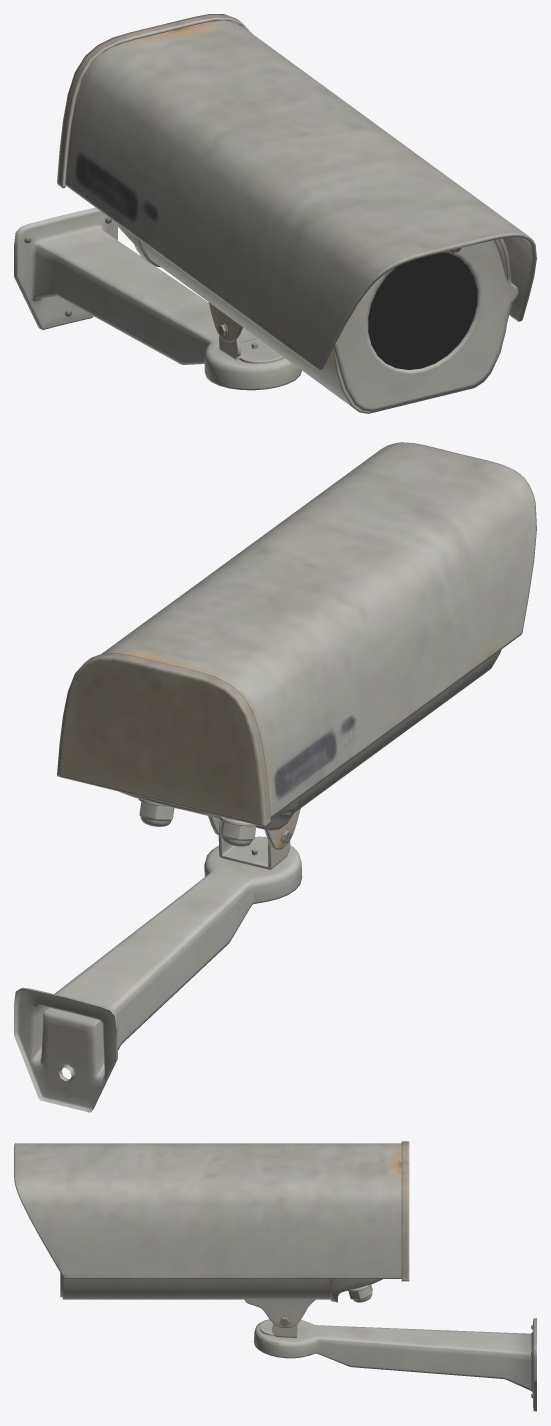
Rendered from security_camera_01.gltf.
The picture shows the model from 3 angles, top to bottom: view 1: azimuth 30°, elevation 25°; view 2: azimuth 150°, elevation 25°; view 3: azimuth 270°, elevation 25°; orthographic projection. The views are drawn at different scales.
Parts seen in each view (by area): view 1: security_camera_01; view 2: security_camera_01; view 3: security_camera_01.
Part boxes in pixels (x1,y1,x2,y2): security_camera_01: (14,14,536,413); security_camera_01: (14,442,536,1112); security_camera_01: (14,1141,536,1411).
Size of the model in its own units: 0.1696 by 0.286 by 0.5537.
Materials: 2 (2 with a texture image).
